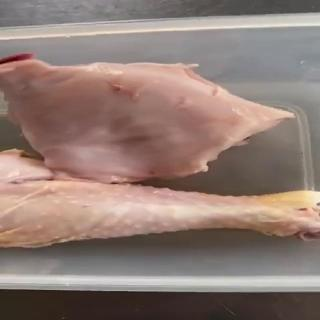Ayam: (1, 53, 296, 185), (1, 149, 320, 249)
